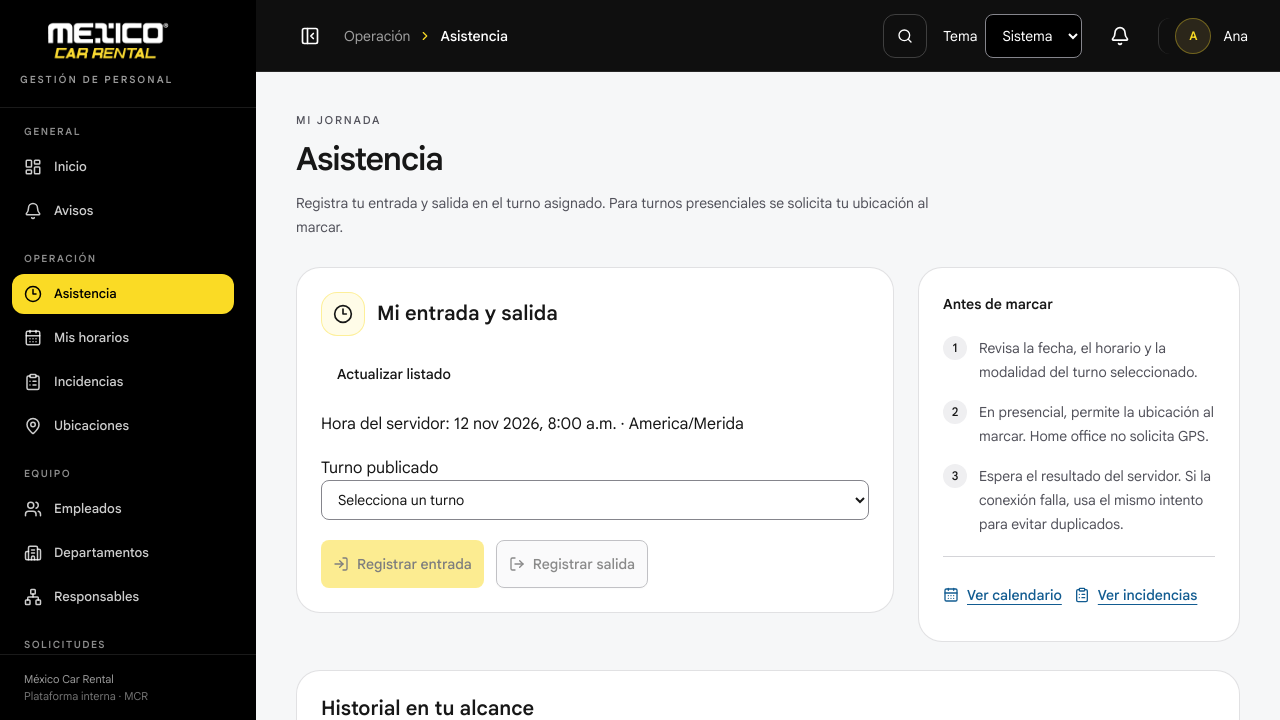
Test: preserves denied GPS as a server attempt and blocks the next punch for a required reason
The width and height of the screenshot is (1280, 720).
Step 1. Select "2026-11-12 · 12 nov 2026, 8:00 a.m. · Presencial" in the dropdown labelled "Turno publicado" → (595, 500), box [321,480,869,520]
(page scrolled)
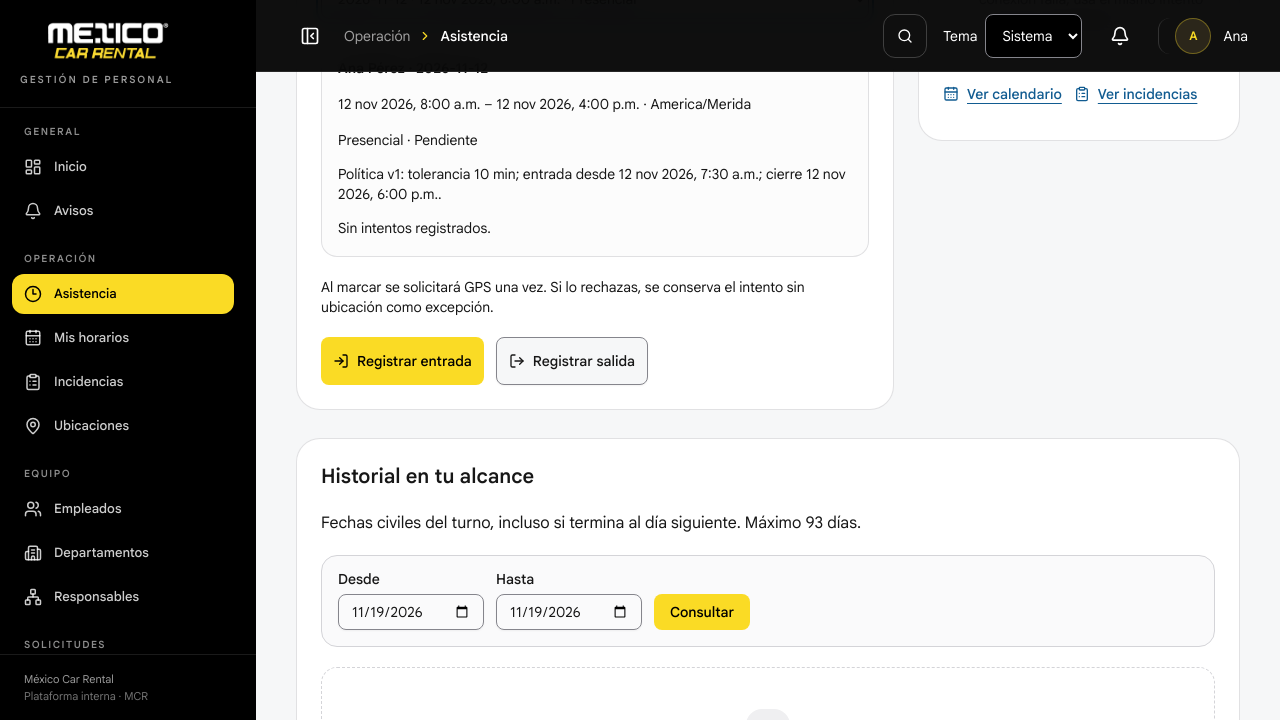
Step 2. Click the button "Registrar entrada" → (402, 360), box [321,336,484,384]
(page scrolled)
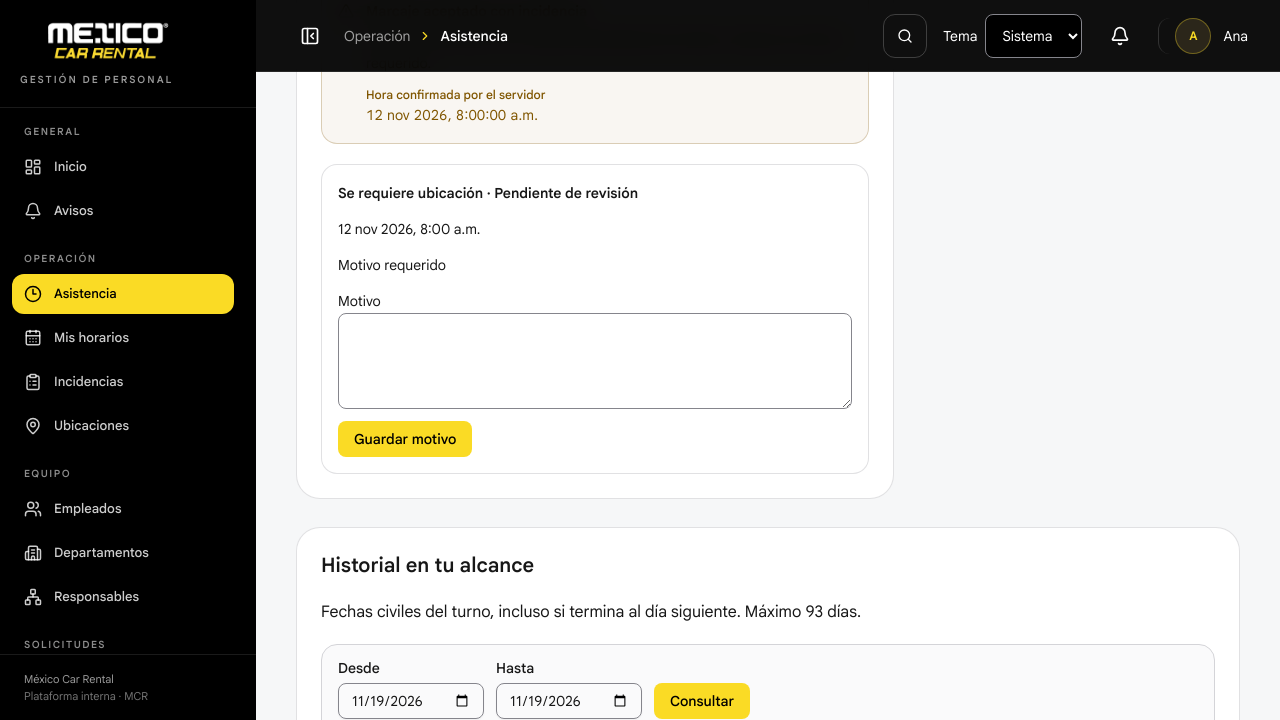
Check: the text "Motivo requerido" is shown, box [338,256,446,274]
Check: the text box labelled "Motivo" is shown, box [338,312,852,408]
